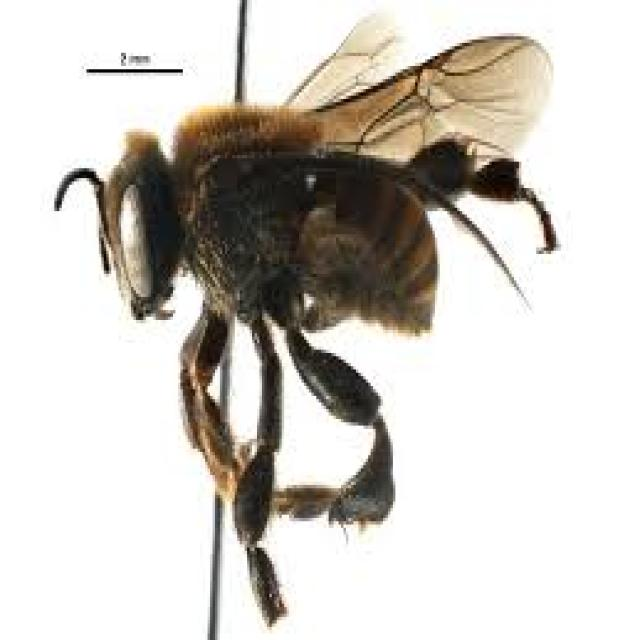Meliponula: (54, 4, 568, 614)
